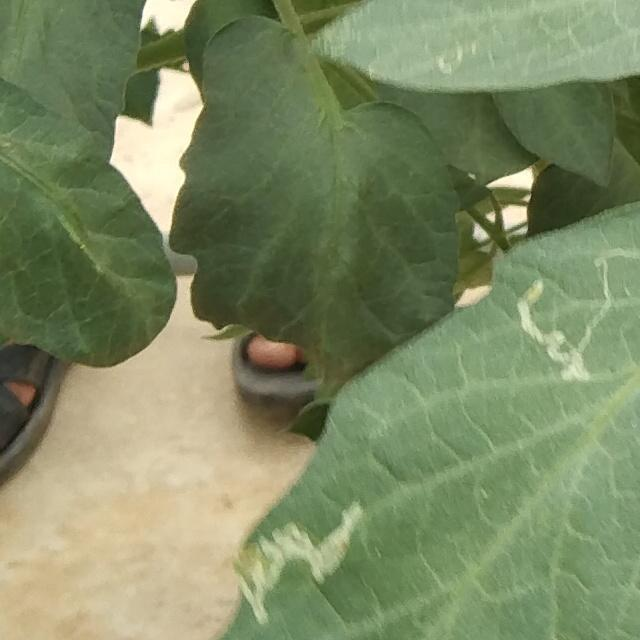Healthy: (173, 13, 468, 405), (0, 74, 177, 368)
Leaf_Miner: (220, 193, 640, 640)
